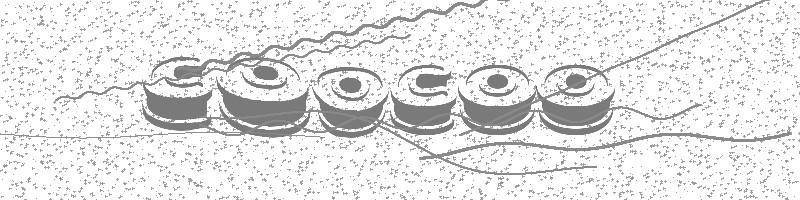c: (141, 55, 213, 131), (389, 63, 456, 136)
o: (217, 56, 312, 139), (537, 64, 616, 137), (312, 65, 389, 139), (457, 64, 536, 136)
